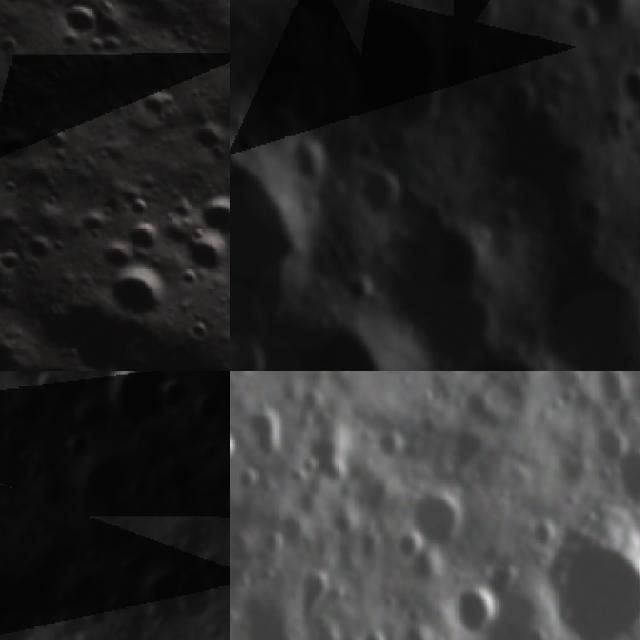crater: (230, 120, 317, 346), (349, 9, 458, 140), (528, 267, 640, 371), (548, 526, 640, 640), (247, 305, 403, 371), (90, 243, 190, 343), (95, 371, 178, 437), (169, 219, 230, 300), (451, 337, 577, 371), (266, 0, 386, 33), (483, 70, 543, 135), (412, 490, 470, 550), (172, 572, 226, 636), (239, 393, 292, 458), (83, 18, 142, 76), (45, 0, 113, 49), (188, 175, 230, 252), (127, 76, 183, 132), (180, 107, 230, 167), (114, 208, 168, 262), (350, 164, 402, 219), (15, 218, 67, 272), (602, 435, 640, 506), (452, 579, 495, 640), (285, 84, 334, 135), (290, 570, 336, 617), (363, 424, 408, 469), (115, 186, 159, 231), (154, 373, 190, 426), (230, 326, 271, 371), (340, 267, 382, 310), (56, 430, 98, 472), (562, 0, 602, 41), (188, 394, 228, 434), (616, 60, 640, 115), (72, 546, 109, 580), (318, 502, 353, 537), (396, 528, 432, 562), (191, 442, 227, 471), (230, 415, 245, 464), (354, 628, 387, 640)
